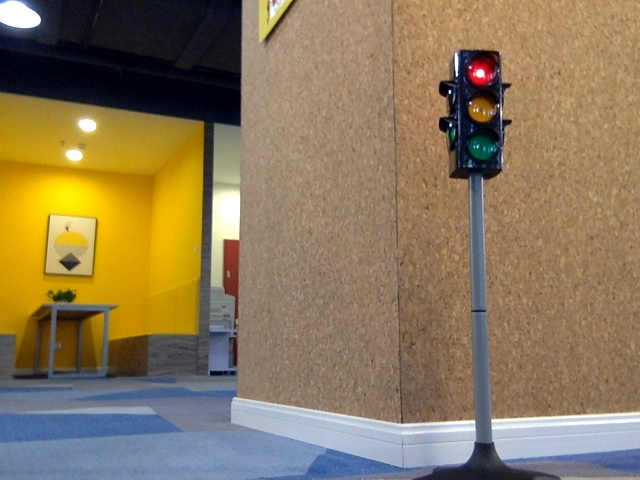red: (461, 58, 494, 162)
